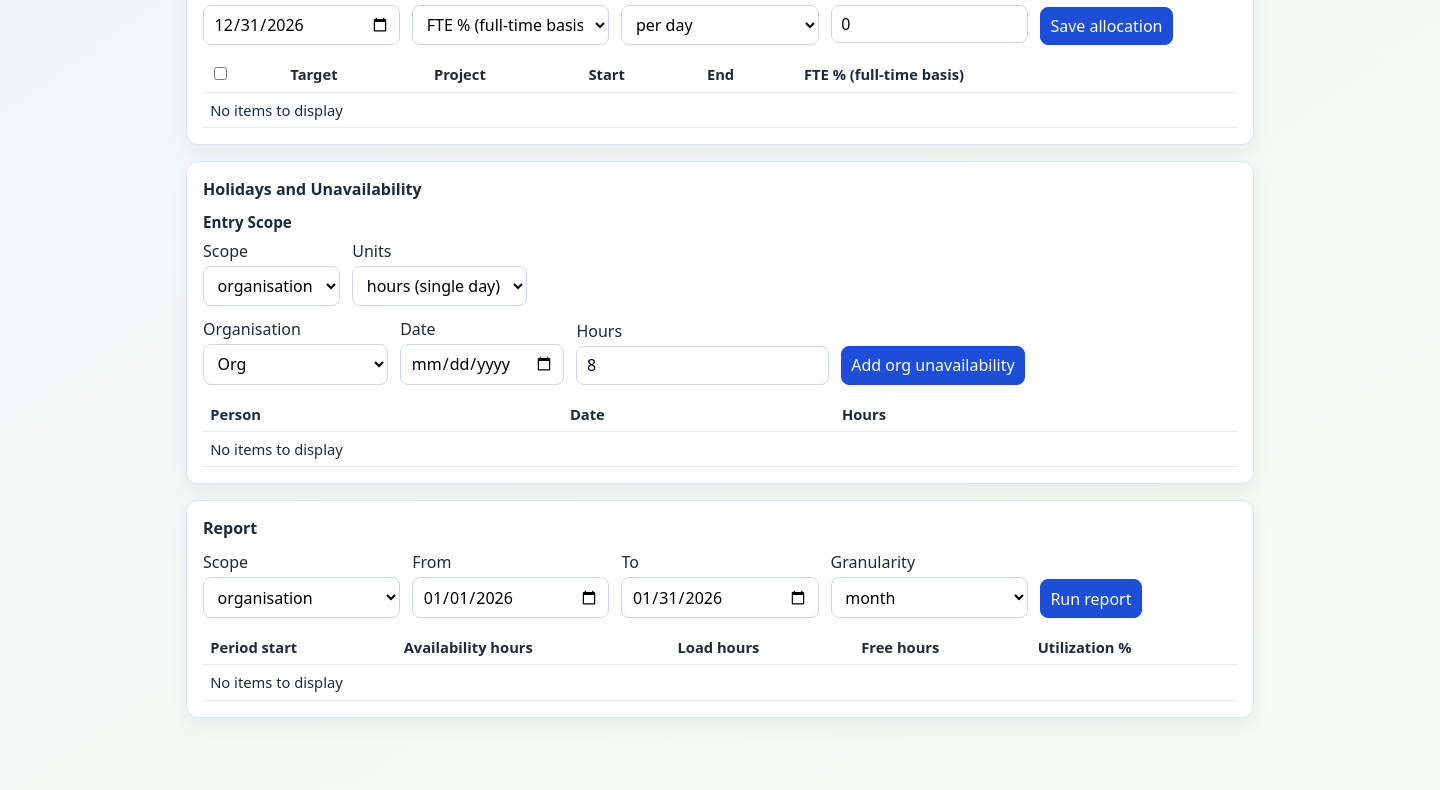
Test: App focused behaviors › runs a project report with no selectable projects and falls back to scope defaults
(page scrolled)
Select "project" in the dropdown labelled "Scope" below "From" at (302, 598), box [203,577,400,618]
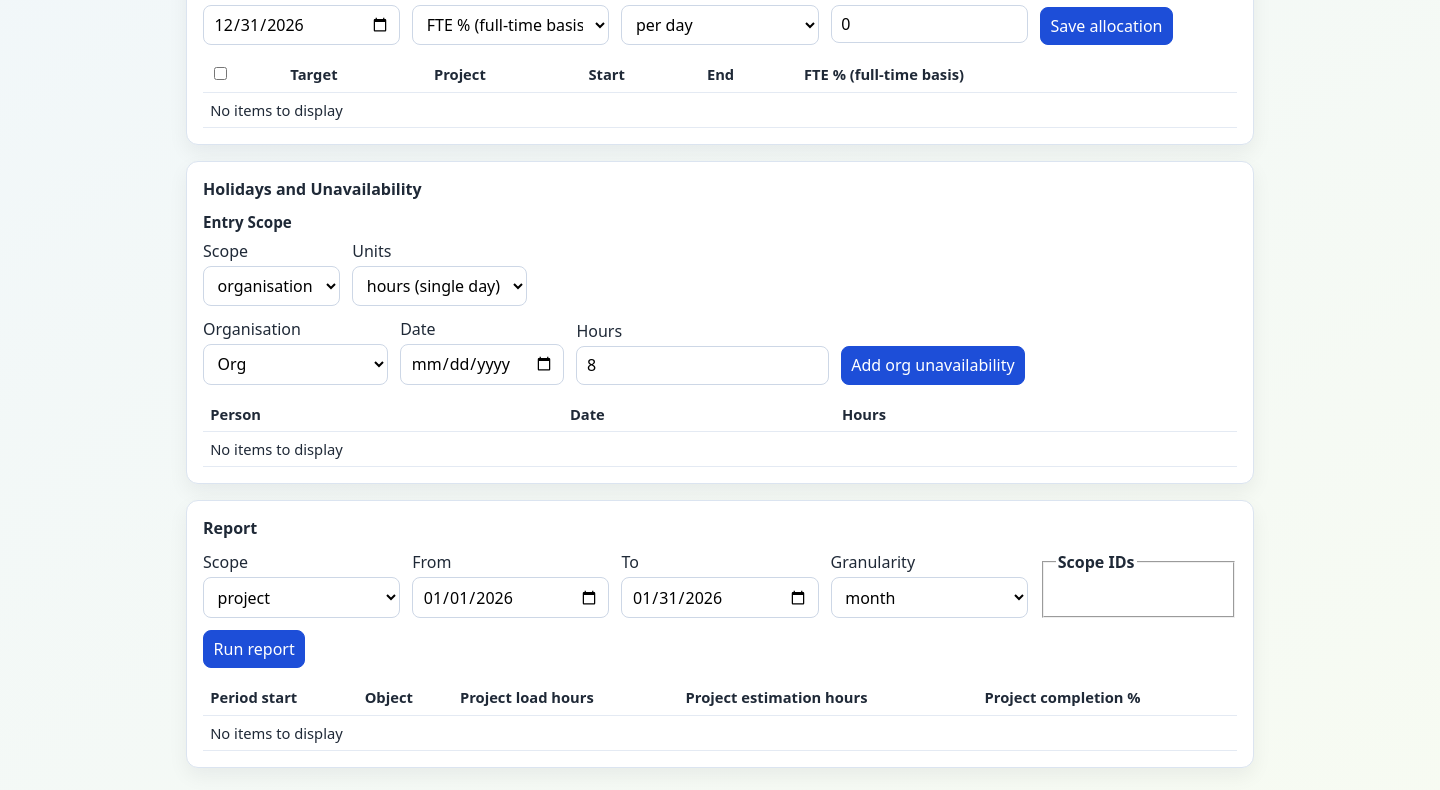
Click the button "Run report" at (254, 649), box [203,630,305,668]
(page scrolled)
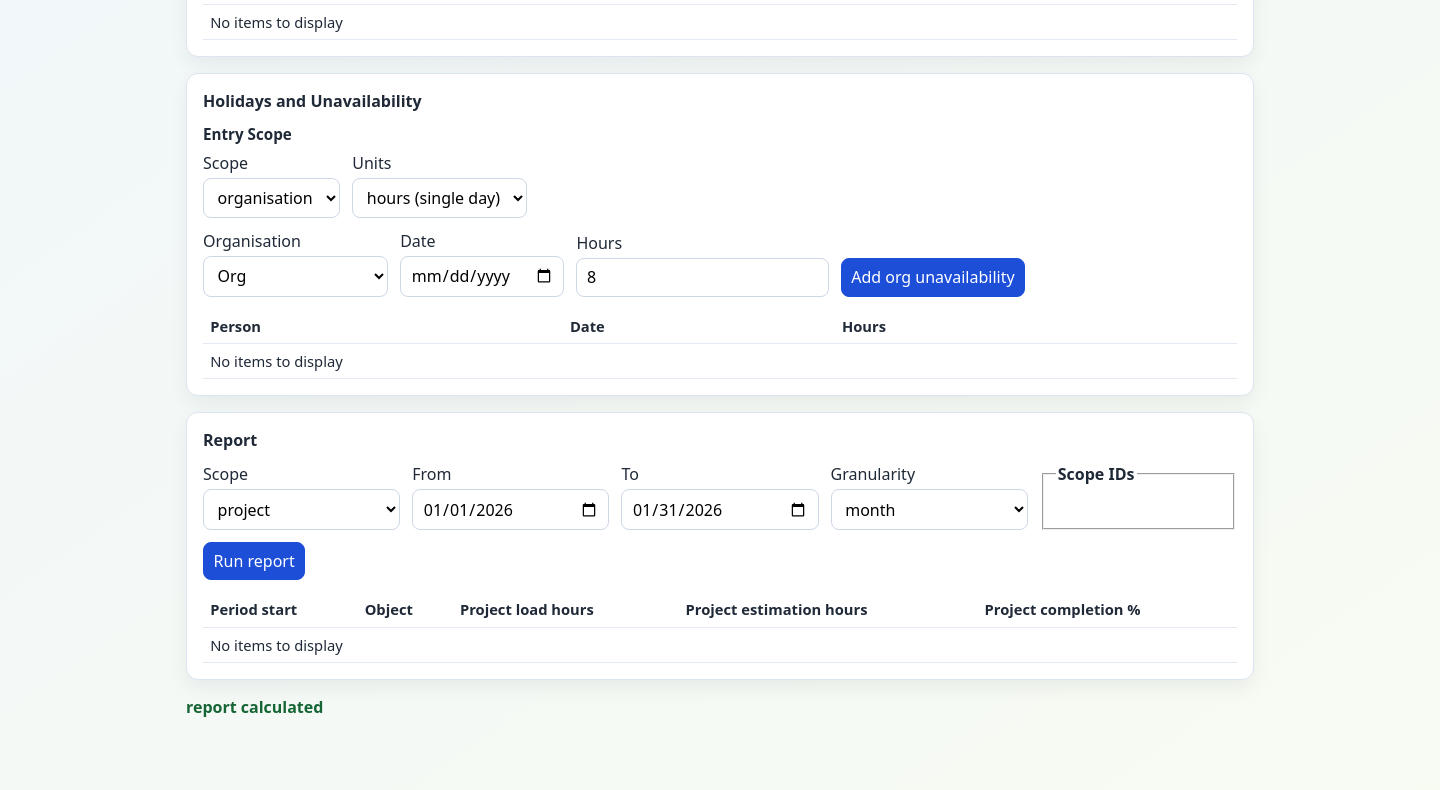
Check: the text "report calculated" is shown, box [186,696,323,718]
